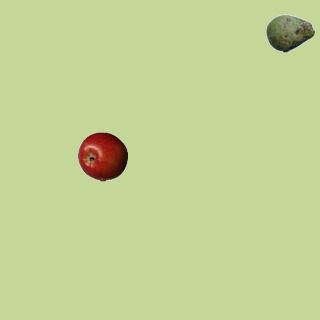Apple Braeburn: (77, 131, 127, 181)
Pear Stone: (265, 8, 315, 58)
